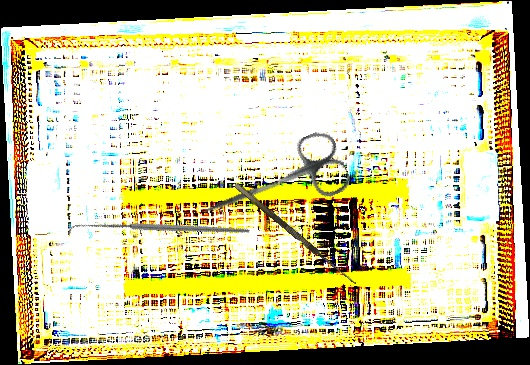Hook Surgical: (66, 148, 252, 315), (234, 176, 362, 287)
Iris Scissors: (193, 126, 354, 245)
